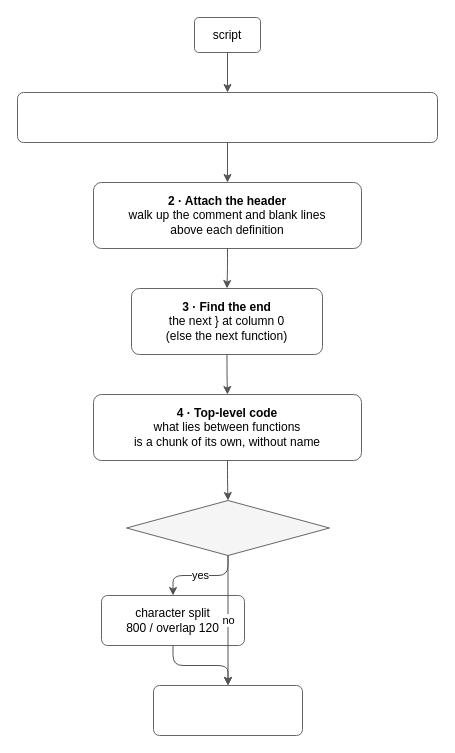
This 455x753 diagram has some shape labels left out. The shapes that lost their labels are listed below. From the top down, each one's centre as x and y in pixels, then its label:
(x=227, y=117): 1 · Find the functions at column 0: name() {, function name {, function name() {
(x=228, y=528): over 1600 chars?
(x=227, y=710): 5 · Head # path :: function
